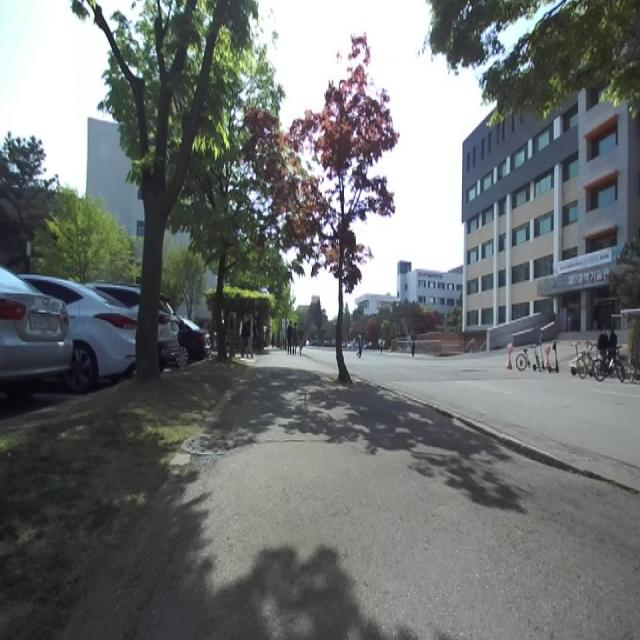sidewalk: (96, 354, 640, 639)
